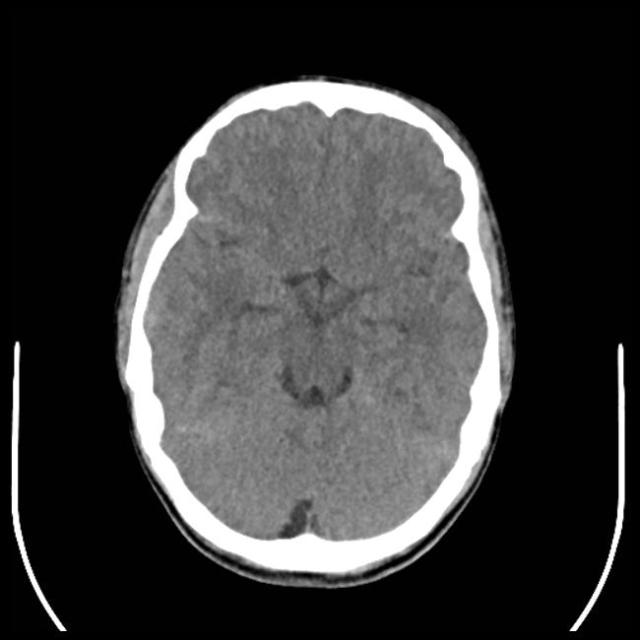lesion: (111, 76, 518, 583)
